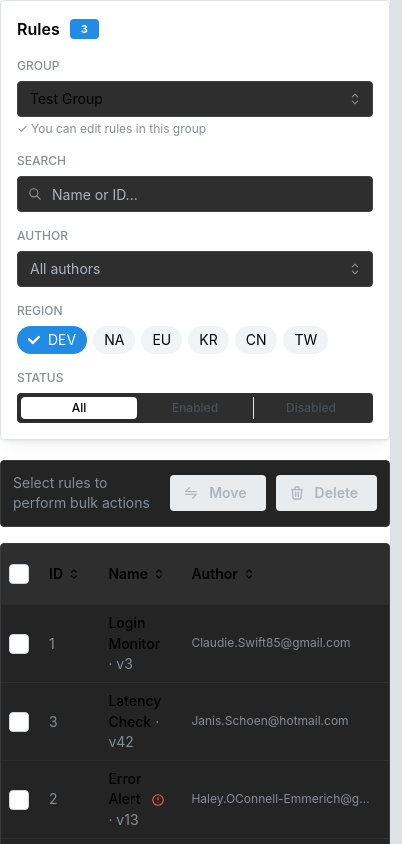
it: RulesListPage › Rule Selection › can clear selection
Click the checkbox below "Login Monitor" at (19,644), box [9, 634, 29, 654]
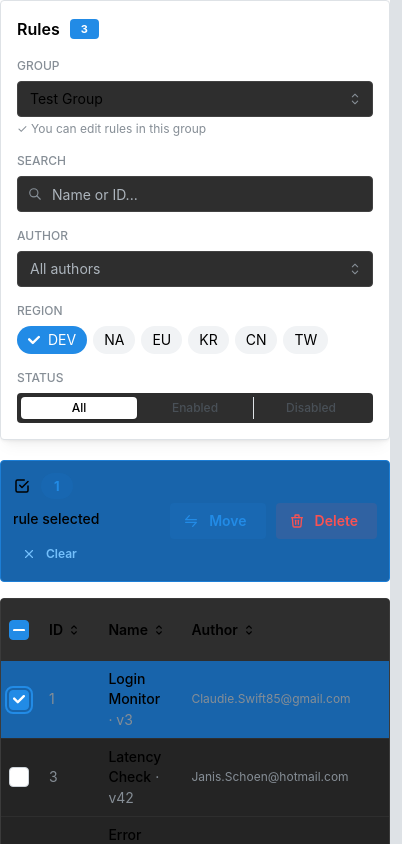
Now the text "rule selected" is shown, box [13, 509, 99, 530]
Click the button "Clear" at (50,554), box [13, 540, 88, 570]
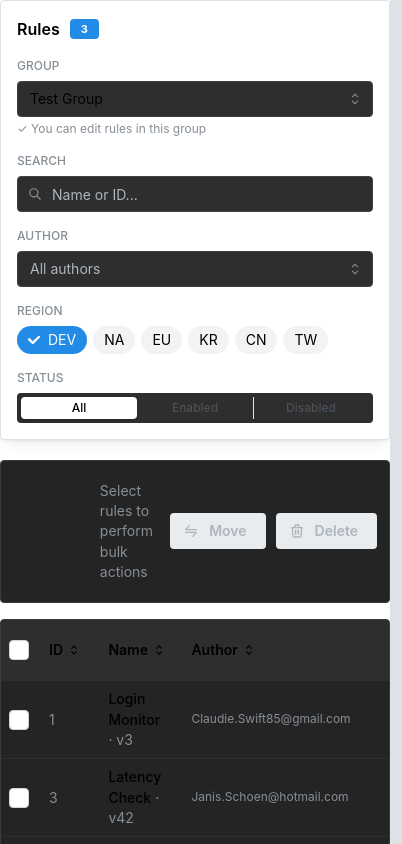
Now the text "Select rules to perform bulk actions" is shown, box [100, 481, 154, 582]
